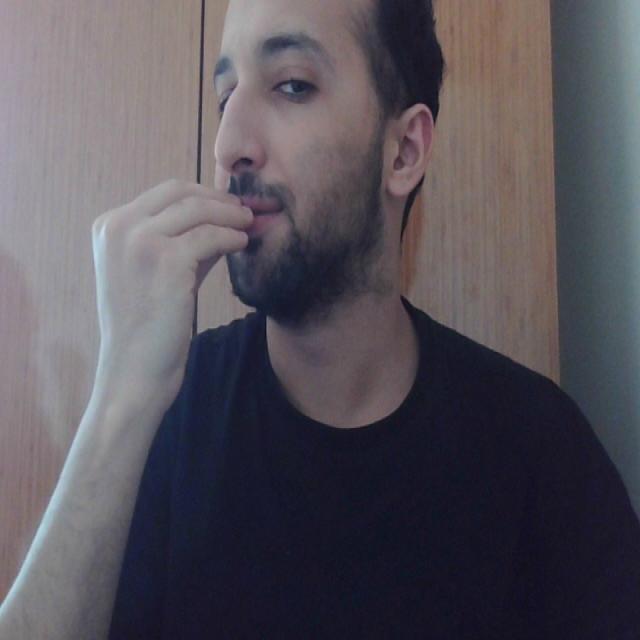Yemek: (77, 168, 263, 259)
